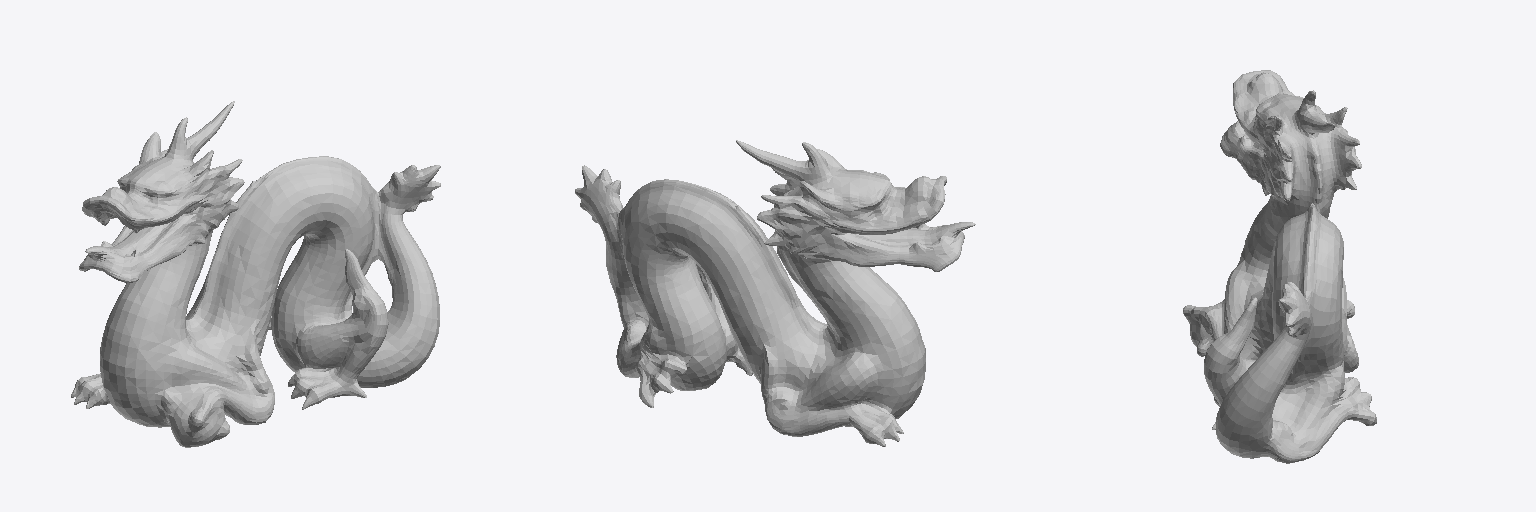
File: dragon.obj
3 renders of one model, left to right at view 1: azimuth 30°, elevation 25°; view 2: azimuth 150°, elevation 25°; view 3: azimuth 270°, elevation 25°, orthographic.
Parts seen in each view (by area): view 1: defaultMaterial; view 2: defaultMaterial; view 3: defaultMaterial.
Boxes of the visible parts, box(x1,y1,x2,y2) form: defaultMaterial: box(71, 101, 440, 447); defaultMaterial: box(575, 140, 975, 446); defaultMaterial: box(1183, 70, 1376, 463).
Size of the model in its own units: 1 by 0.704 by 0.4468.